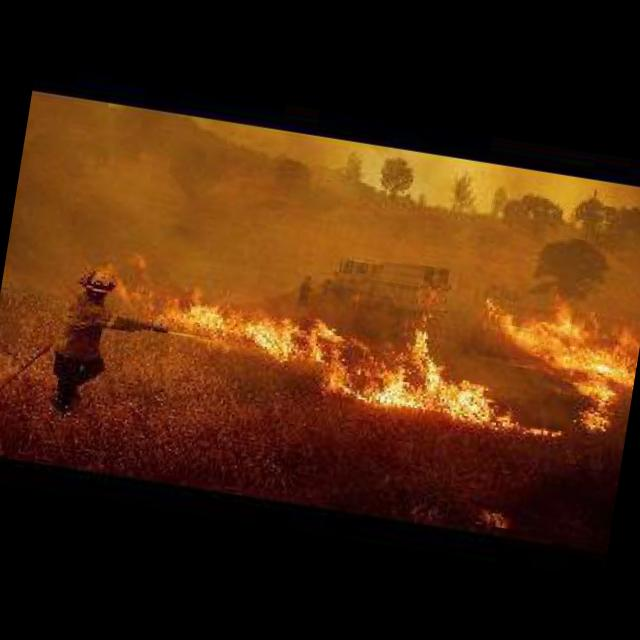fire: (151, 224, 640, 452)
